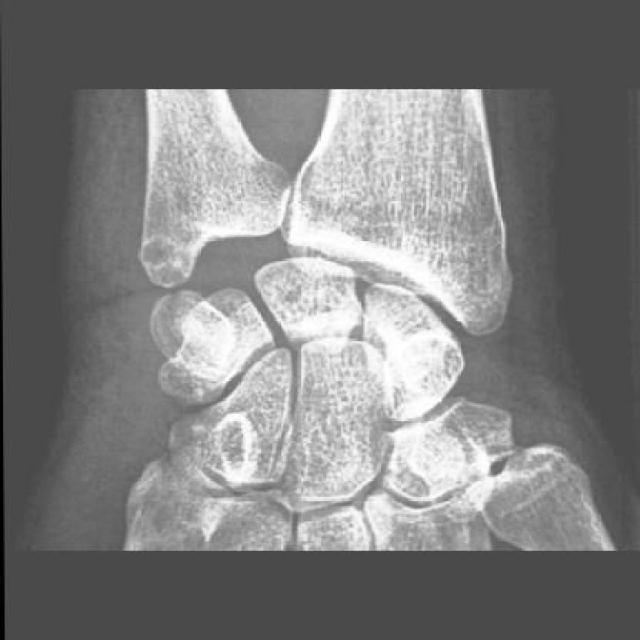Fracture: (132, 283, 247, 392)
